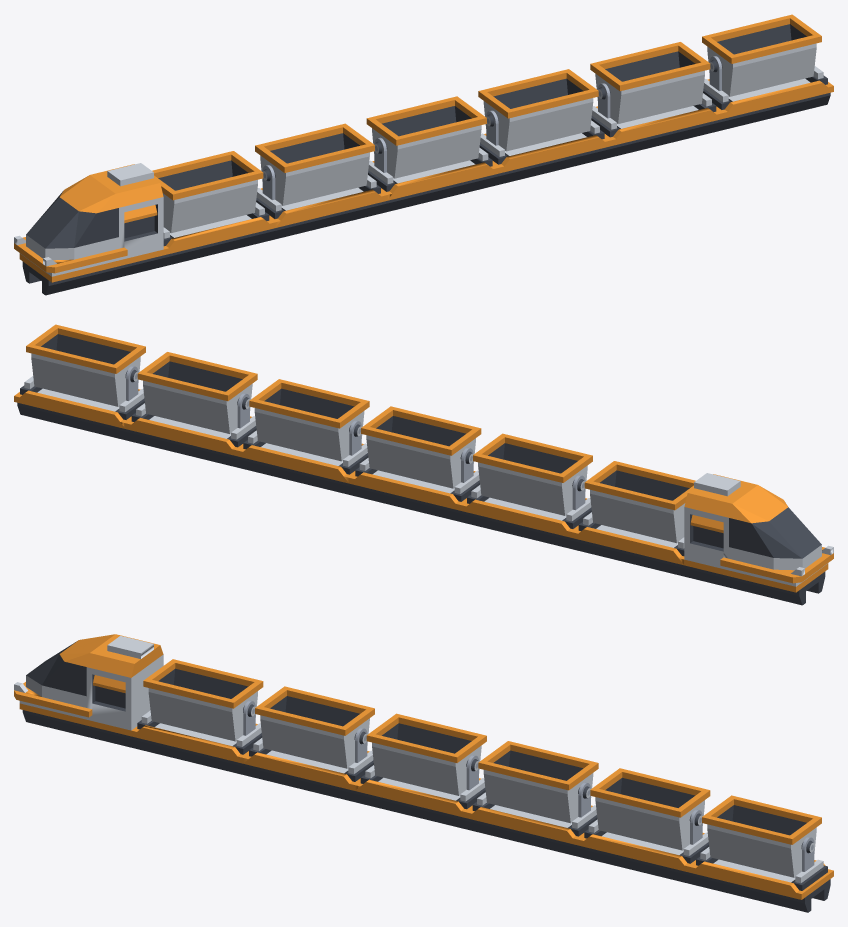
The model's file is train.obj.
3 renders of one model, top to bottom at view 1: azimuth 30°, elevation 25°; view 2: azimuth 150°, elevation 25°; view 3: azimuth 330°, elevation 25°, orthographic.
Visible parts, largest first — view 1: Train_monorail_trainFront.001_metal.002, Train_monorail_trainFront.001_metalRed.002, Train_monorail_trainFront.001_dark.002, Train_monorail_trainFront.001_dark.001, Train_monorail_trainFront.001_metalRed.001, Train_monorail_trainFront.001_metal.001, Train_monorail_trainFront.001_metalDark; view 2: Train_monorail_trainFront.001_metal.002, Train_monorail_trainFront.001_metalRed.002, Train_monorail_trainFront.001_dark.002, Train_monorail_trainFront.001_dark.001, Train_monorail_trainFront.001_metalRed.001, Train_monorail_trainFront.001_metal.001, Train_monorail_trainFront.001_metalDark; view 3: Train_monorail_trainFront.001_metal.002, Train_monorail_trainFront.001_metalRed.002, Train_monorail_trainFront.001_dark.002, Train_monorail_trainFront.001_metal.001, Train_monorail_trainFront.001_metalRed.001, Train_monorail_trainFront.001_dark.001, Train_monorail_trainFront.001_metalDark.
Part boxes in pixels (x1,y1,x2,y2): Train_monorail_trainFront.001_metal.002: (162, 43, 823, 238); Train_monorail_trainFront.001_metalRed.002: (152, 14, 833, 255); Train_monorail_trainFront.001_dark.002: (157, 24, 830, 267); Train_monorail_trainFront.001_dark.001: (22, 191, 160, 295); Train_monorail_trainFront.001_metalRed.001: (14, 164, 163, 282); Train_monorail_trainFront.001_metal.001: (14, 163, 163, 276); Train_monorail_trainFront.001_metalDark: (262, 56, 721, 200); Train_monorail_trainFront.001_metal.002: (24, 353, 685, 548); Train_monorail_trainFront.001_metalRed.002: (14, 324, 695, 565); Train_monorail_trainFront.001_dark.002: (17, 334, 690, 577); Train_monorail_trainFront.001_dark.001: (687, 507, 825, 605); Train_monorail_trainFront.001_metalRed.001: (684, 474, 833, 592); Train_monorail_trainFront.001_metal.001: (684, 473, 833, 586); Train_monorail_trainFront.001_metalDark: (126, 366, 585, 510); Train_monorail_trainFront.001_metal.002: (141, 688, 823, 883); Train_monorail_trainFront.001_metalRed.002: (131, 659, 833, 899); Train_monorail_trainFront.001_dark.002: (134, 668, 830, 912); Train_monorail_trainFront.001_metal.001: (14, 636, 163, 730); Train_monorail_trainFront.001_metalRed.001: (14, 634, 163, 736); Train_monorail_trainFront.001_dark.001: (22, 641, 137, 748); Train_monorail_trainFront.001_metalDark: (243, 700, 814, 871).
Size of the model in its own units: 7.05 by 0.8 by 0.6.
